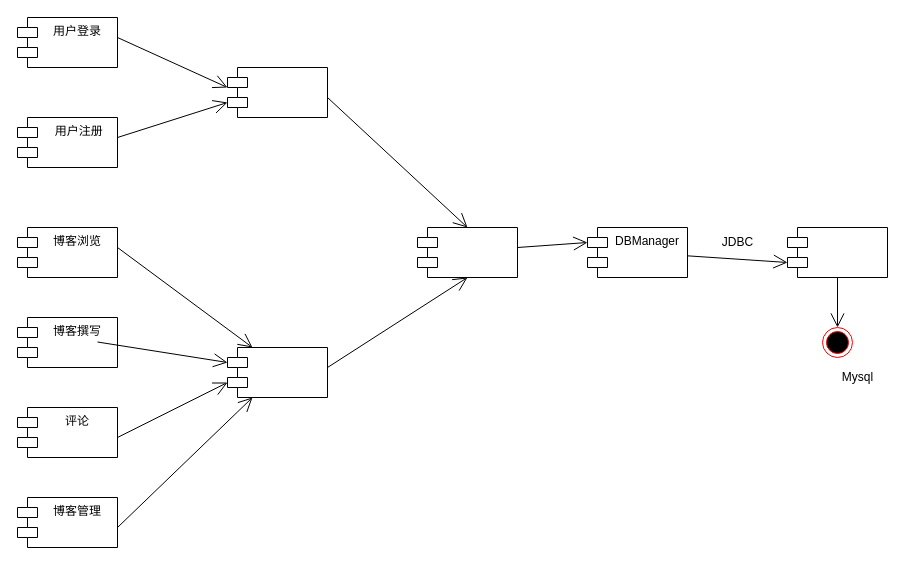
This 905x565 diagram has some shape labels left out. The box of each missing label's shape, as (x1, y1, x2, y2) in pixels:
博客信息: (226, 346, 328, 398)
博客系统平台: (416, 226, 518, 278)
数据库: (786, 226, 888, 278)
用户信息: (226, 66, 328, 118)
